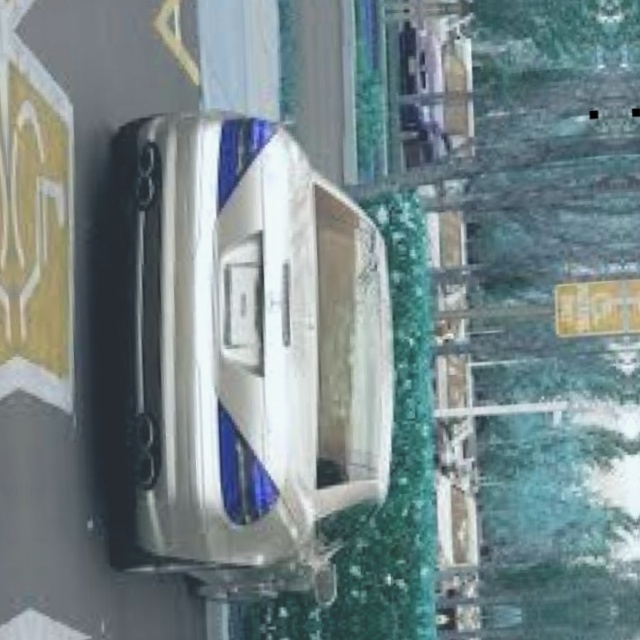ISA: (3, 100, 81, 348), (0, 103, 16, 352), (590, 290, 625, 328), (625, 288, 640, 326)
